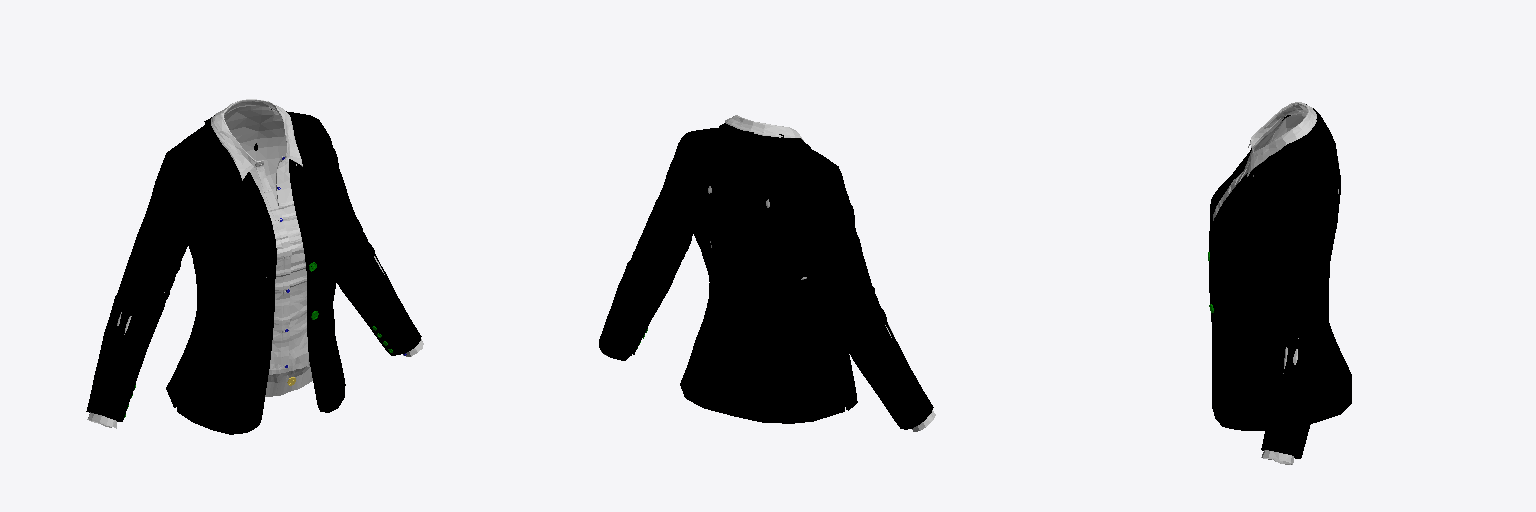
The model's file is gray-suit.obj.
The picture shows the model from 3 angles: view 1: azimuth 30°, elevation 25°; view 2: azimuth 150°, elevation 25°; view 3: azimuth 270°, elevation 25°; orthographic projection.
Bounding box in the file's own units: 9.14 × 7.67 × 3.46.